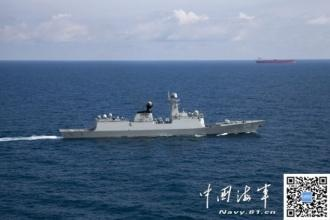warship: (58, 92, 264, 140)
